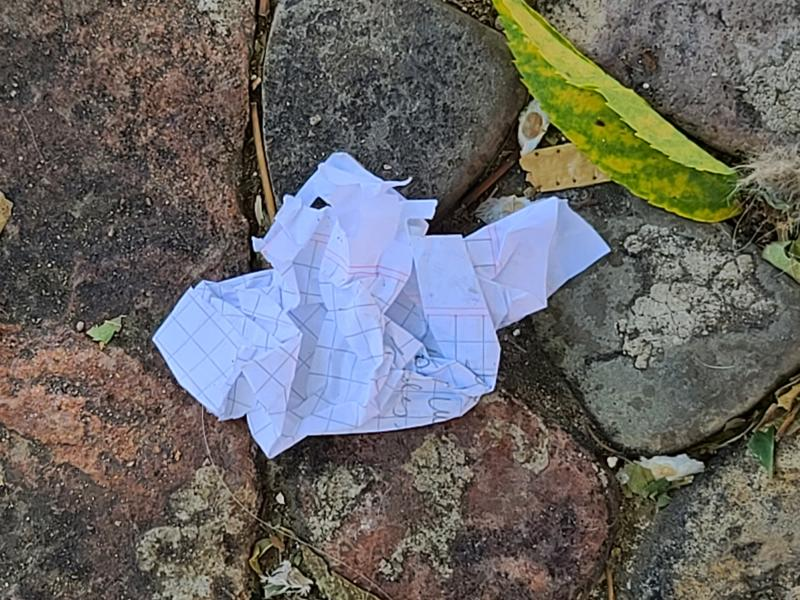papel: (151, 153, 611, 460)
